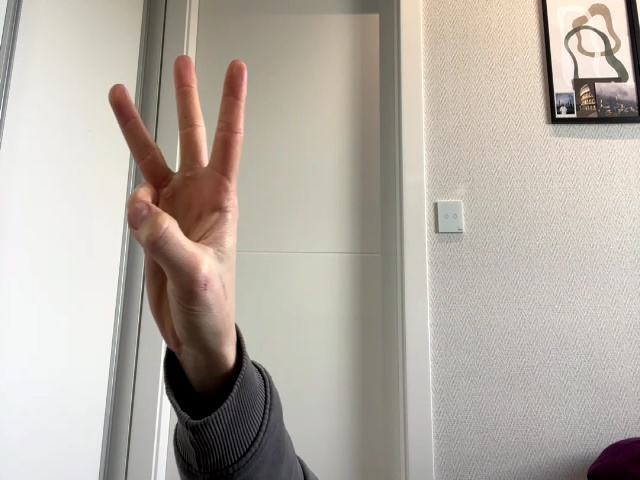W: (108, 55, 247, 346)
